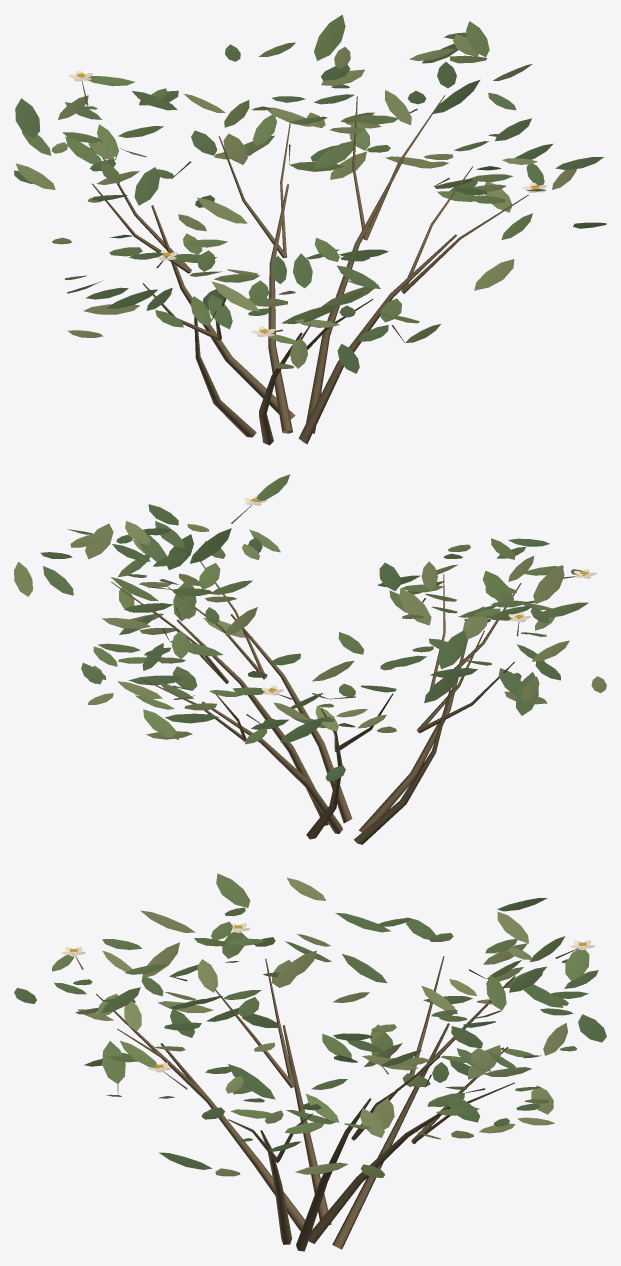
Rendered from Ciste_1_Low.fbx.
3 views of the same model, one above another, from view 1: azimuth 30°, elevation 25°; view 2: azimuth 150°, elevation 25°; view 3: azimuth 270°, elevation 25° (orthographic). The views are drawn at different scales.
Parts seen in each view (by area): view 1: Ciste_1_Low; view 2: Ciste_1_Low; view 3: Ciste_1_Low.
Part boxes in pixels (bbox=[...]): Ciste_1_Low: bbox=[14, 14, 606, 445]; Ciste_1_Low: bbox=[14, 474, 606, 844]; Ciste_1_Low: bbox=[14, 873, 606, 1251].
Bounding box in the file's own units: 193 × 105 × 185.
